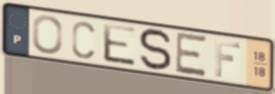C: (70, 19, 96, 61)
E: (101, 21, 138, 69), (173, 31, 209, 79)
F: (214, 38, 243, 79)
O: (31, 14, 65, 56)
S: (137, 27, 174, 73)
